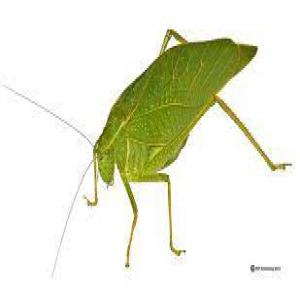locust: (60, 34, 268, 239)
